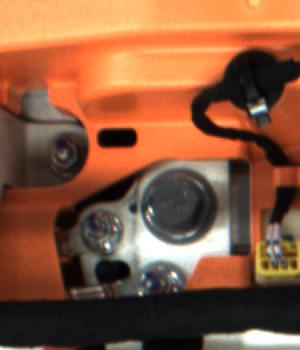nut_b: (135, 163, 217, 250)
screw_s: (43, 137, 90, 179), (133, 264, 183, 295), (82, 211, 122, 248)
